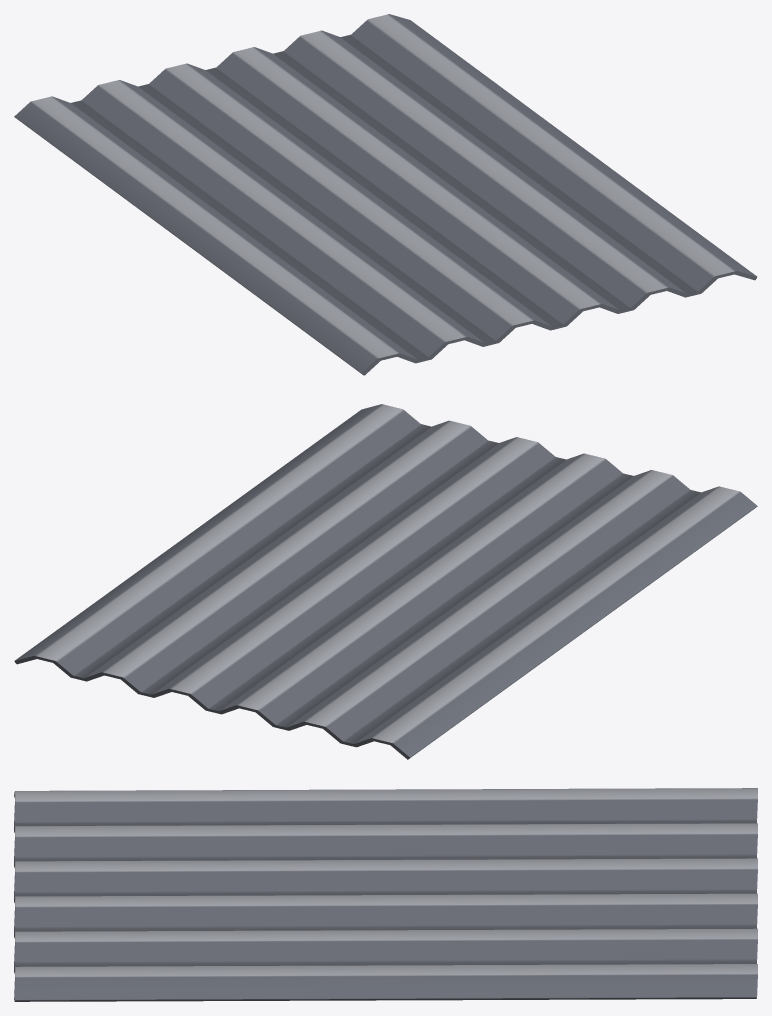
The model's file is Prop_Tejado.fbx.
3 renders of one model, top to bottom at view 1: azimuth 30°, elevation 25°; view 2: azimuth 150°, elevation 25°; view 3: azimuth 270°, elevation 25°, orthographic. The views are drawn at different scales.
Parts seen in each view (by area): view 1: GPencil.002; view 2: GPencil.002; view 3: GPencil.002.
Part boxes in pixels (x1=…): GPencil.002: x1=14, y1=14, x2=757, y2=375; GPencil.002: x1=14, y1=404, x2=757, y2=759; GPencil.002: x1=14, y1=788, x2=757, y2=1001.
Size of the model in its own units: 6.56 by 0.2559 by 9.98.
